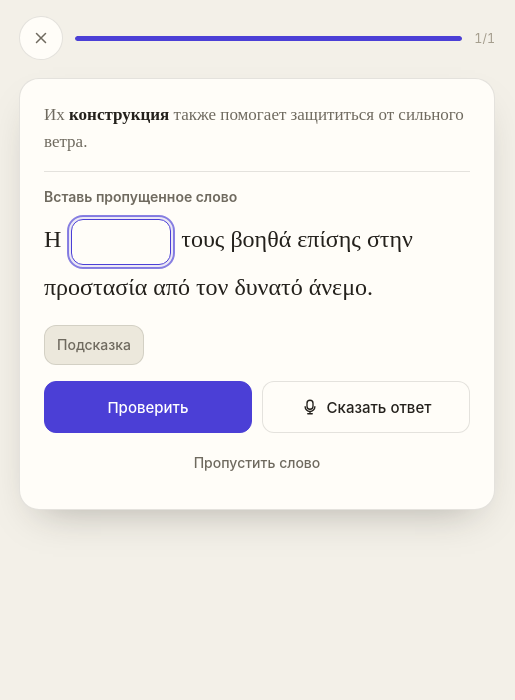
Test: TrainingPracticeView › точное совпадение формы — вердикт «Верно», расхождение — «Не совсем» с ожидаемым словом
Type "κατασκευή" into the field at [121, 242], box [71,219,171,265]
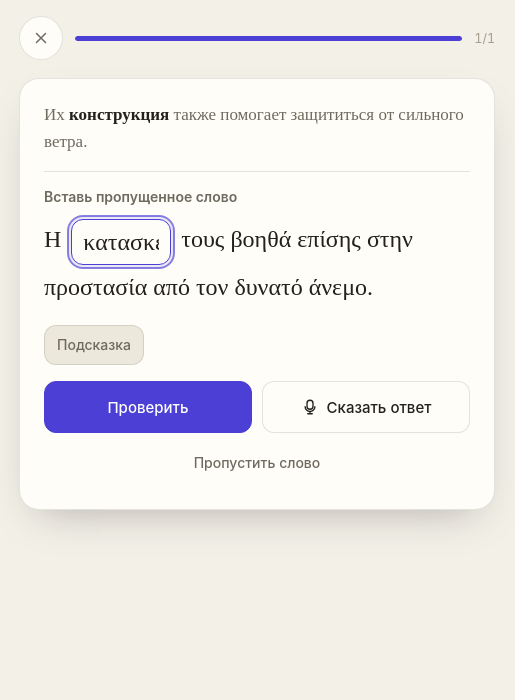
Click the button "Проверить" at [148, 407], box [44,381,252,433]
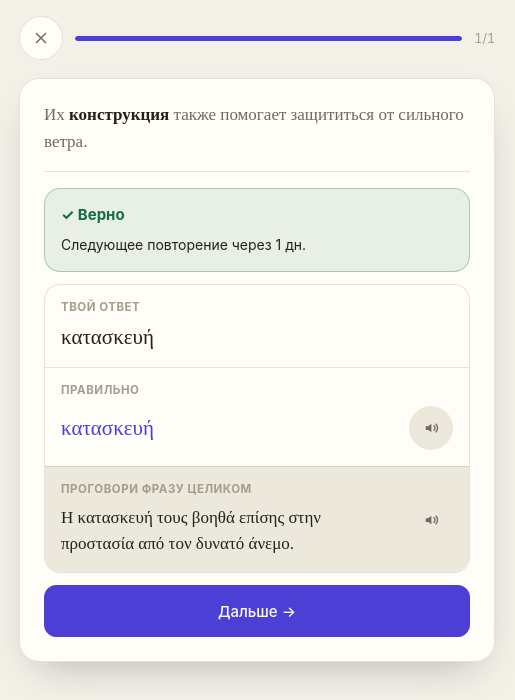
Check: the heading "✓ Верно" is shown, box [61,205,125,224]
Check: the text "Проговори фразу целиком" is shown, box [61,482,252,496]
Check: the text "Твой ответ" is shown, box [61,300,140,314]
